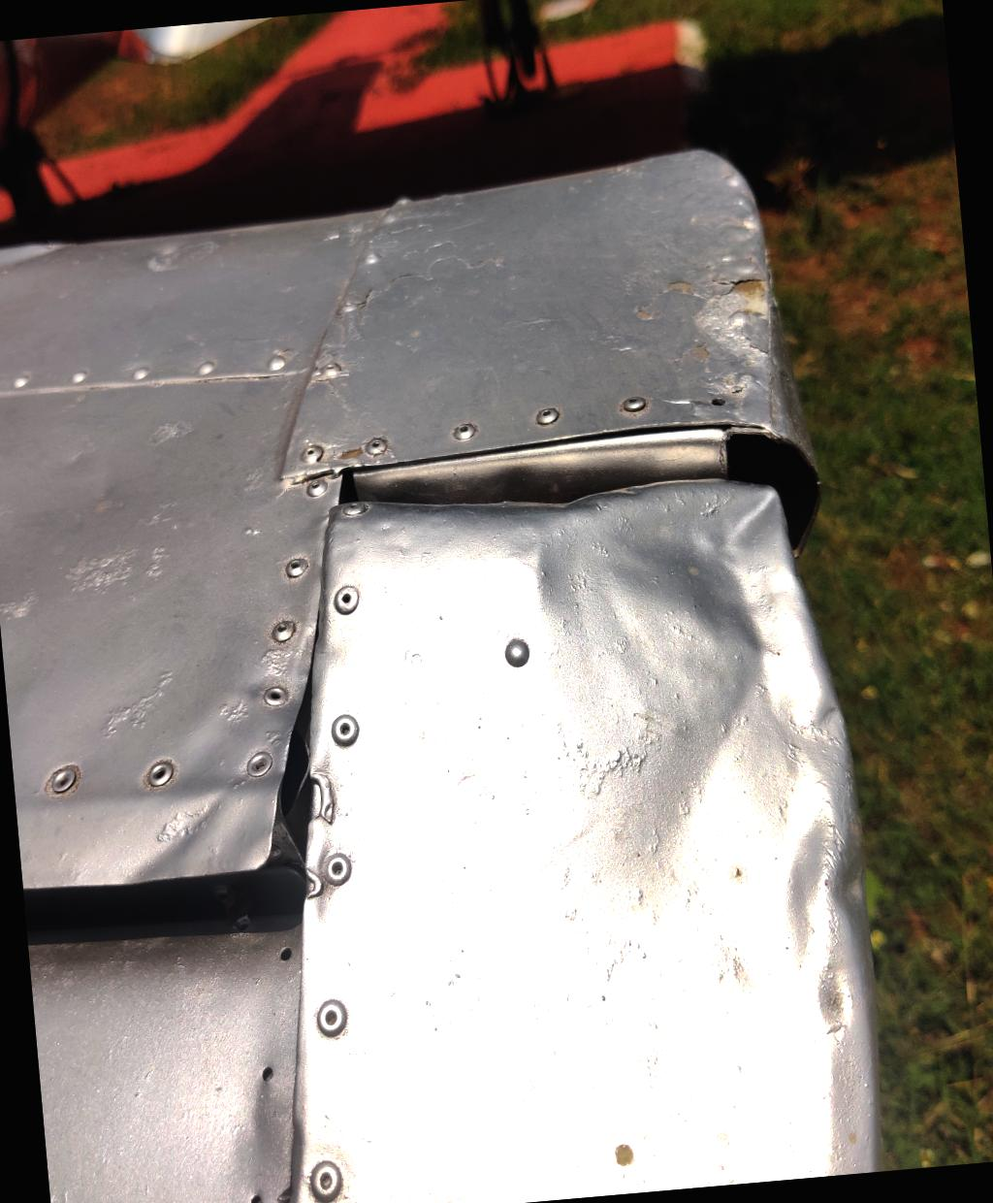dent: (738, 743, 924, 1094), (593, 447, 829, 707)
